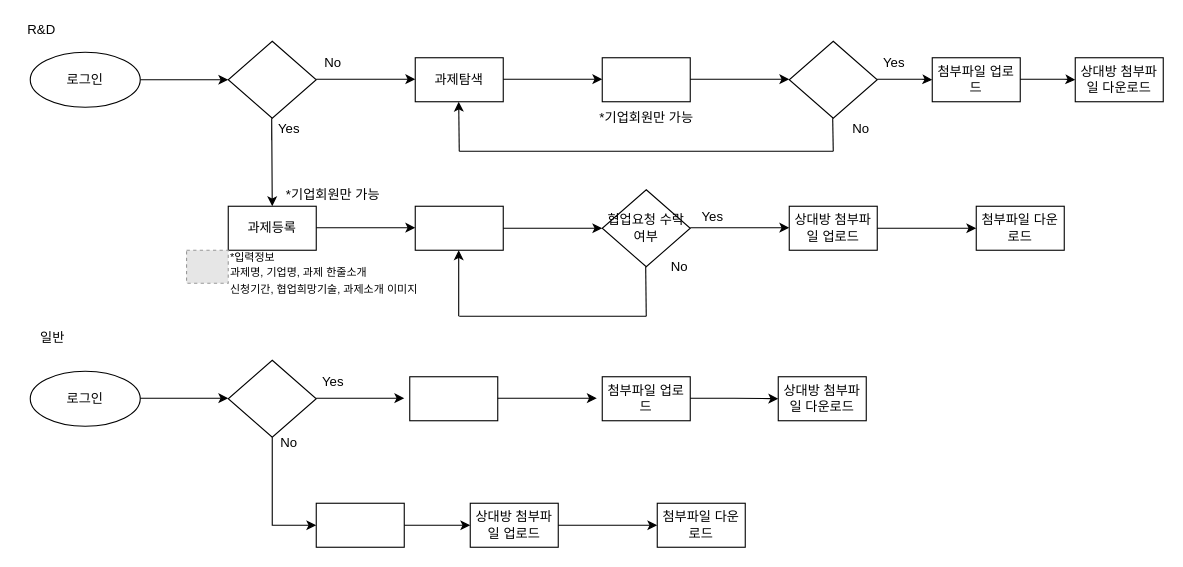
Image size: 1183x567. Some labels were removed from this diagram. Grey dashed boxes stand in for pictures. Each missing label, with the centre of its shape:
과제주관여부: [271,79]
상대방 요청수락여부: [832,79]
상대방 협업승인: [453,398]
협업수락: [359,524]
협업요청: [645,79]
협업요청 주체여부: [271,398]
협업요청수신: [458,227]
